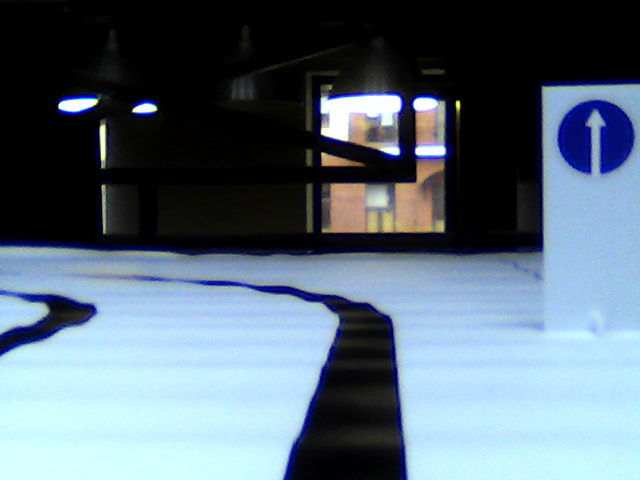forw: (554, 95, 636, 180)
